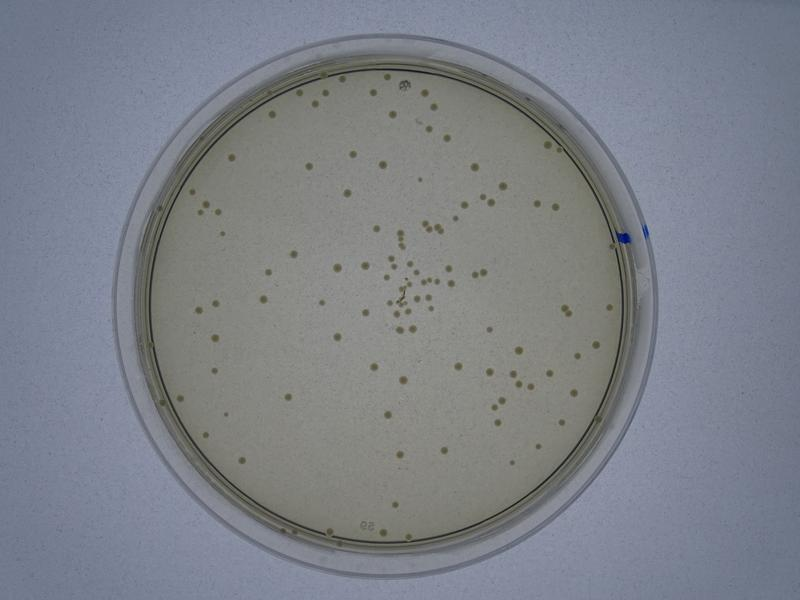colony: (542, 366, 558, 382), (257, 290, 271, 306), (331, 261, 346, 275), (375, 158, 390, 172), (333, 329, 346, 344), (450, 359, 465, 371), (482, 366, 497, 378), (366, 362, 380, 374), (396, 373, 410, 385), (361, 306, 373, 318), (513, 345, 526, 356), (343, 186, 353, 200), (282, 391, 293, 403), (382, 409, 393, 421), (225, 153, 236, 165), (303, 161, 316, 171), (484, 321, 494, 334), (570, 385, 580, 398), (469, 159, 478, 173), (261, 268, 275, 277), (369, 224, 381, 234), (388, 108, 398, 120), (288, 248, 298, 259), (491, 418, 503, 427), (210, 332, 219, 343), (438, 445, 449, 454), (349, 149, 358, 159), (395, 450, 405, 459), (444, 132, 451, 143), (196, 305, 204, 314)
